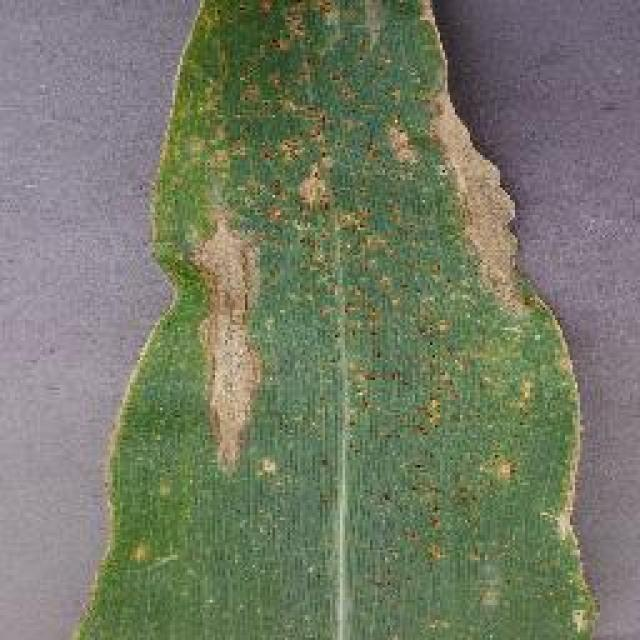Corn___Northern_Leaf_Blight: (20, 2, 618, 640)
